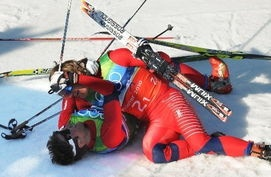fall: (44, 42, 271, 169)
